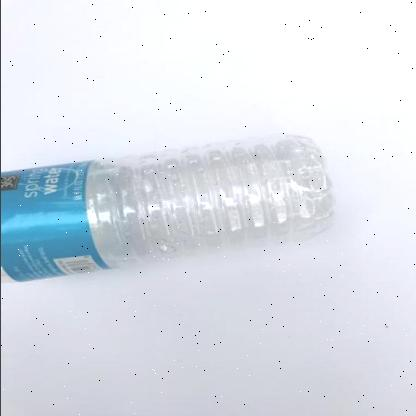Plastic Bottle: (0, 136, 333, 283)
